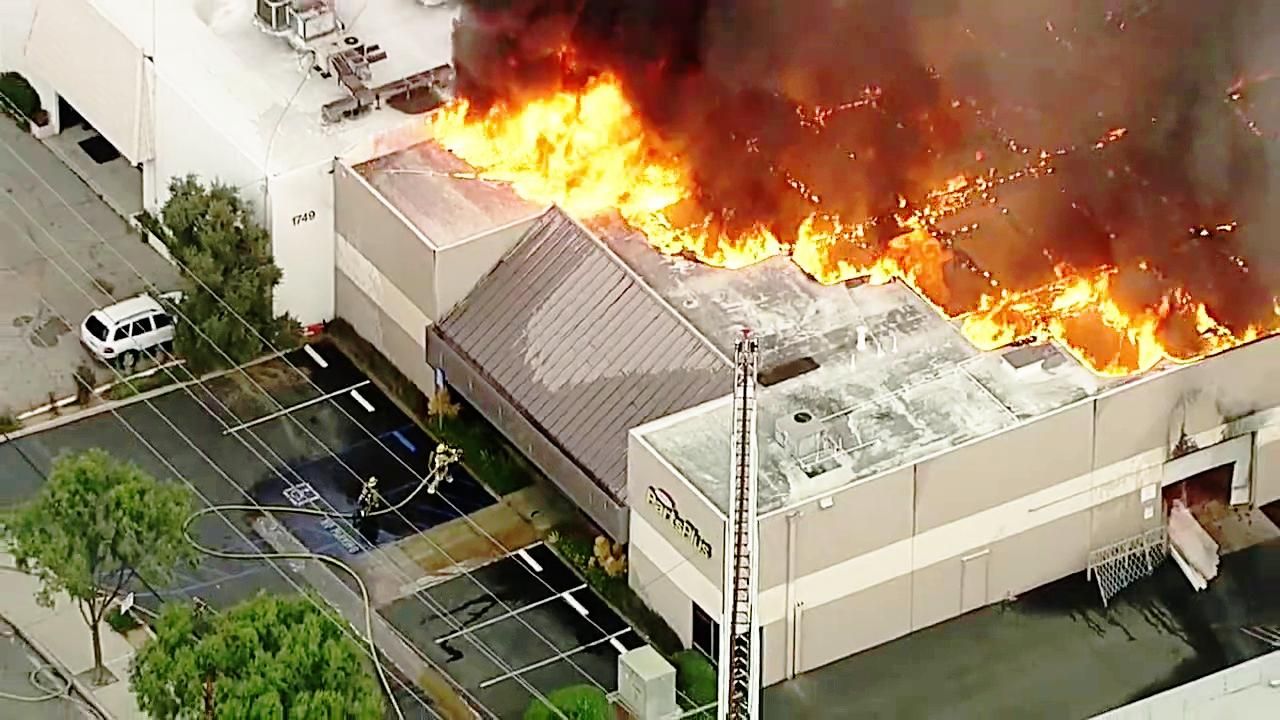fire: (444, 77, 670, 210), (699, 207, 830, 275)
smoke: (476, 0, 740, 82)
